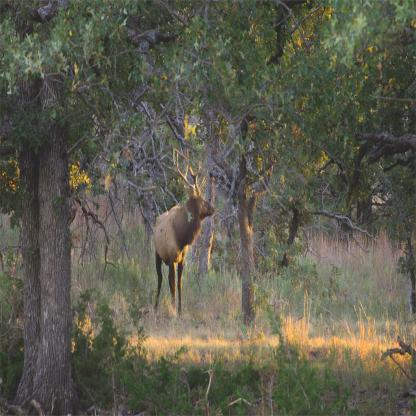Deer: (149, 143, 218, 339)
